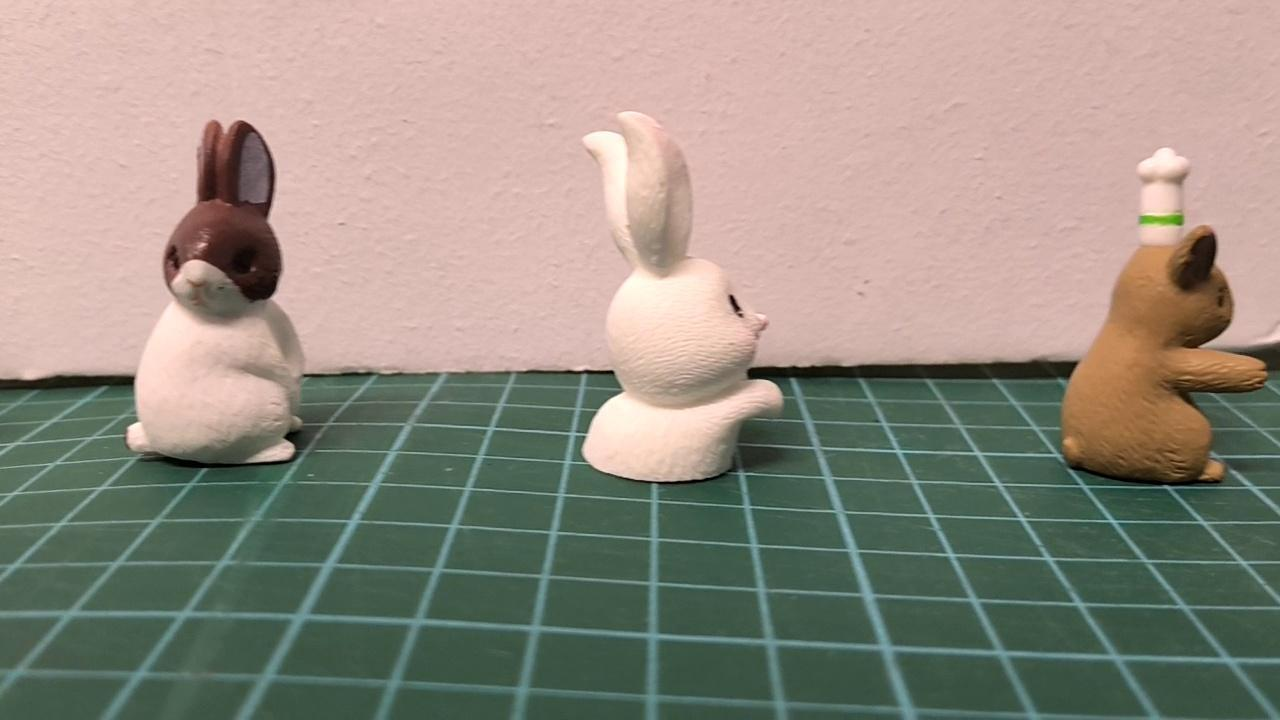pet: (577, 110, 784, 483), (1062, 150, 1267, 484), (121, 120, 311, 466)
